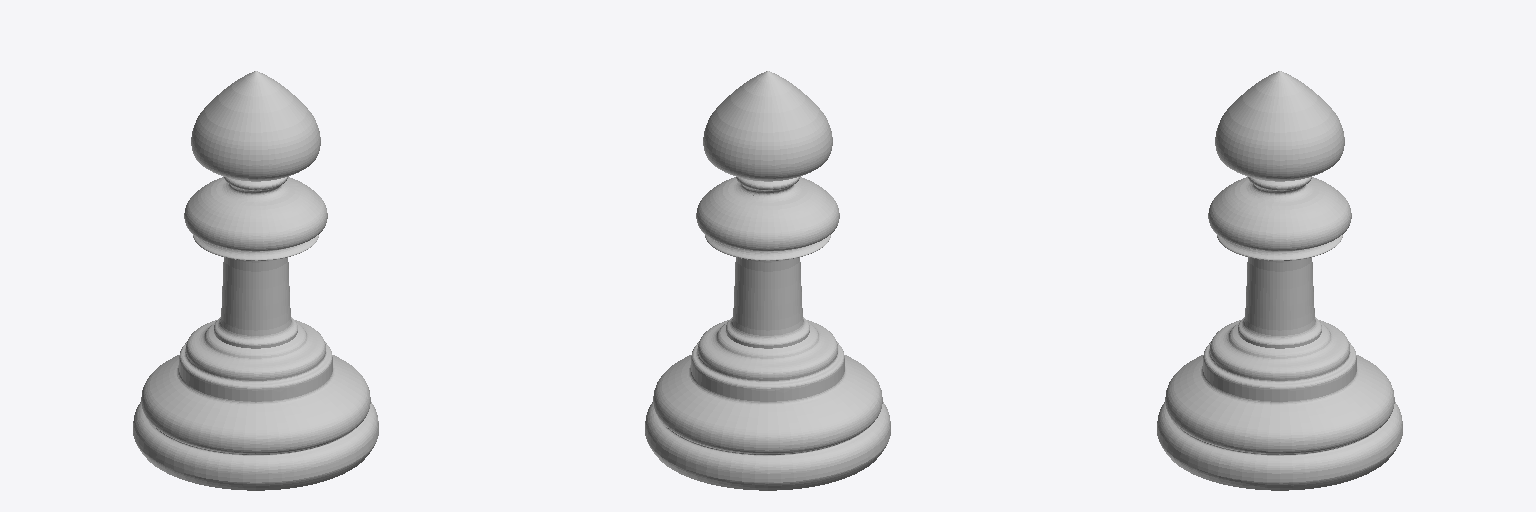
File: pawn.obj
3 views of the same model, side by side, from view 1: azimuth 30°, elevation 25°; view 2: azimuth 150°, elevation 25°; view 3: azimuth 270°, elevation 25° (orthographic).
Visible parts, largest first — view 1: Chess_White_Pawns1_Pawn_1; view 2: Chess_White_Pawns1_Pawn_1; view 3: Chess_White_Pawns1_Pawn_1.
Boxes of the visible parts, <box> form: Chess_White_Pawns1_Pawn_1: <box>133,71,378,490</box>; Chess_White_Pawns1_Pawn_1: <box>645,71,890,490</box>; Chess_White_Pawns1_Pawn_1: <box>1157,71,1402,490</box>.
Bounding box in the file's own units: 0.6379 × 1.06 × 0.6379.